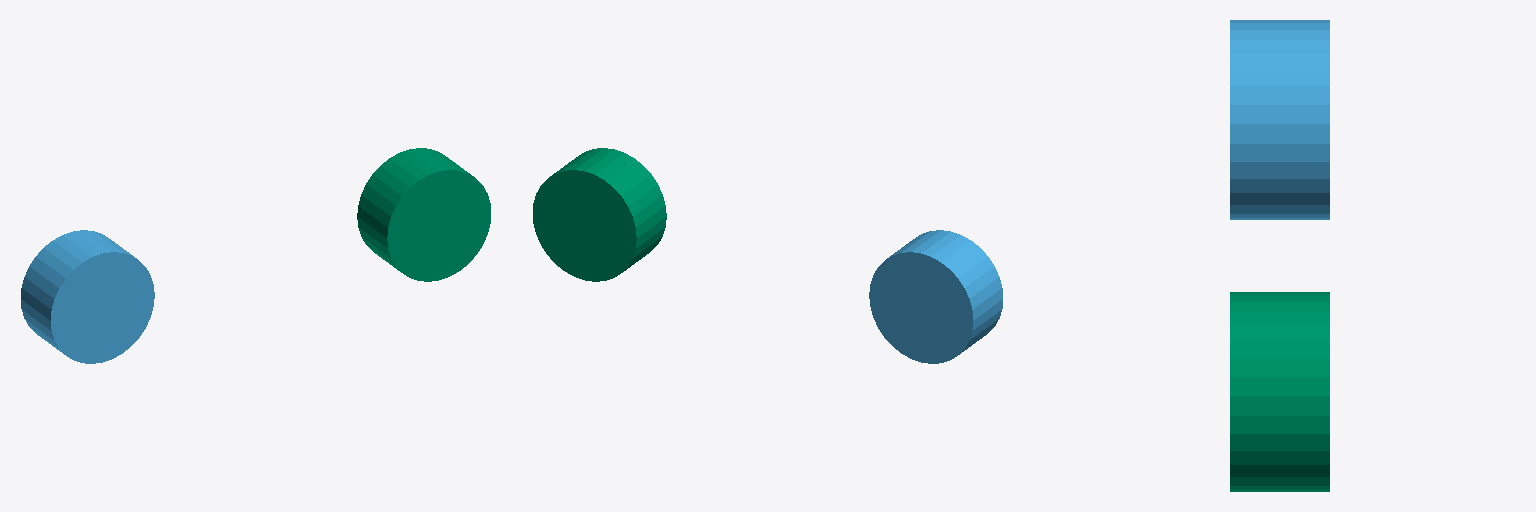
robot.urdf — ur:
<?xml version="1.0" ?>
<robot name="ur">
  <!-- Add URDF transmission elements (for ros_control) -->
  <!--<xacro:ur_arm_transmission prefix="${prefix}" hw_interface="${transmission_hw_interface}" />-->
  <!-- Placeholder for ros2_control transmission which don't yet exist -->
  <!-- links -  main serial chain -->
  <link name="base_link"/>
  <joint name="base_link-pod_base_link" type="fixed">
    <parent link="base_link"/>
    <child link="pod_base_link"/>
    <origin rpy="0 0 0" xyz="0.0 0 0"/>
  </joint>

  <link name="pod_base_link">
    <!-- <visual>
      <origin rpy="3.14 0 1.57" xyz="0.305 0.065 0.517"/>
      <geometry>
        <mesh filename="meshes/pod/untitled.dae"/>
      </geometry>
    </visual> -->
    <!-- <collision>
      <origin rpy="-1.57 0 1.57" xyz="0.305 0.065 0.517"/>
      <geometry>
        <mesh filename="meshes/pod/untitled.dae"/>
      </geometry>
    </collision> -->
  </link>
  
  <joint name="base_link-base_link_inertia" type="fixed">
    <parent link="base_link"/>
    <child link="base_link_inertia"/>
    <!-- 'base_link' is REP-103 aligned (so X+ forward), while the internal
           frames of the robot/controller have X+ pointing backwards.
           Use the joint between 'base_link' and 'base_link_inertia' (a dummy
           link/frame) to introduce the necessary rotation over Z (of pi rad).
      -->
    <origin rpy="0 0 3.141592653589793" xyz="-0.05 -0.05 0.05"/>
  </joint>
  <link name="base_link_inertia">
    <visual>
      <origin rpy="0 0 3.141592653589793" xyz="0 0 0"/>
      <geometry>
        <mesh filename="meshes/ur10e/visual/base.dae"/>
      </geometry>
    </visual>
    <collision>
      <origin rpy="0 0 3.141592653589793" xyz="0 0 0"/>
      <geometry>
        <mesh filename="meshes/ur10e/collision/base.stl"/>
      </geometry>
    </collision>
    <inertial>
      <mass value="4.0"/>
      <origin rpy="0 0 0" xyz="0 0 0"/>
      <inertia ixx="0.0061063308908" ixy="0.0" ixz="0.0" iyy="0.0061063308908" iyz="0.0" izz="0.01125"/>
    </inertial>
  </link>
  <joint name="shoulder_pan_joint" type="revolute">
    <parent link="base_link_inertia"/>
    <child link="shoulder_link"/>
    <origin rpy="0 0 0" xyz="0 0 0.1807"/>
    <axis xyz="0 0 1"/>
    <limit effort="330.0" lower="-6.283185307179586" upper="6.283185307179586" velocity="2.0943951023931953"/>
    <dynamics damping="0" friction="0"/>
  </joint>
  <link name="shoulder_link">
    <visual>
      <origin rpy="0 0 3.141592653589793" xyz="0 0 0"/>
      <geometry>
        <mesh filename="meshes/ur10e/visual/shoulder.dae"/>
      </geometry>
    </visual>
    <collision>
      <origin rpy="0 0 3.141592653589793" xyz="0 0 0"/>
      <geometry>
        <mesh filename="meshes/ur10e/collision/shoulder.stl"/>
      </geometry>
    </collision>
    <inertial>
      <mass value="7.369"/>
      <origin rpy="0 0 0" xyz="0 0 0"/>
      <inertia ixx="0.029819260655624295" ixy="0.0" ixz="0.0" iyy="0.029819260655624295" iyz="0.0" izz="0.020725312499999995"/>
    </inertial>
  </link>
  <joint name="shoulder_lift_joint" type="revolute">
    <parent link="shoulder_link"/>
    <child link="upper_arm_link"/>
    <origin rpy="1.570796327 0 0" xyz="0 0 0"/>
    <axis xyz="0 0 1"/>
    <limit effort="330.0" lower="-6.283185307179586" upper="6.283185307179586" velocity="2.0943951023931953"/>
    <dynamics damping="0" friction="0"/>
  </joint>
  <link name="upper_arm_link">
    <visual>
      <origin rpy="1.5707963267948966 0 -1.5707963267948966" xyz="0 0 0.176"/>
      <geometry>
        <mesh filename="meshes/ur16e/visual/upperarm.dae"/>
      </geometry>
    </visual>
    <collision>
      <origin rpy="1.5707963267948966 0 -1.5707963267948966" xyz="0 0 0.176"/>
      <geometry>
        <mesh filename="meshes/ur16e/collision/upperarm.stl"/>
      </geometry>
    </collision>
    <inertial>
      <mass value="10.45"/>
      <origin rpy="0 1.5707963267948966 0" xyz="-0.2392 0.0 0.175"/>
      <inertia ixx="0.21399985623335657" ixy="0.0" ixz="0.0" iyy="0.21399985623335657" iyz="0.0" izz="0.029390624999999997"/>
    </inertial>
  </link>
  <joint name="elbow_joint" type="revolute">
    <parent link="upper_arm_link"/>
    <child link="forearm_link"/>
    <origin rpy="0 0 0" xyz="-0.4784 0 0"/>
    <axis xyz="0 0 1"/>
    <limit effort="150.0" lower="-6.283185307179586" upper="6.283185307179586" velocity="3.141592653589793"/>
    <dynamics damping="0" friction="0"/>
  </joint>
  <link name="forearm_link">
    <visual>
      <origin rpy="1.5707963267948966 0 -1.5707963267948966" xyz="0 0 0.04"/>
      <geometry>
        <mesh filename="meshes/ur16e/visual/forearm.dae"/>
      </geometry>
    </visual>
    <collision>
      <origin rpy="1.5707963267948966 0 -1.5707963267948966" xyz="0 0 0.04"/>
      <geometry>
        <mesh filename="meshes/ur16e/collision/forearm.stl"/>
      </geometry>
    </collision>
    <inertial>
      <mass value="4.321"/>
      <origin rpy="0 1.5707963267948966 0" xyz="-0.18 0.0 0.04"/>
      <inertia ixx="0.052743185152717496" ixy="0.0" ixz="0.0" iyy="0.052743185152717496" iyz="0.0" izz="0.012152812499999997"/>
    </inertial>
  </link>
  <joint name="wrist_1_joint" type="revolute">
    <parent link="forearm_link"/>
    <child link="wrist_1_link"/>
    <origin rpy="0 0 0" xyz="-0.36 0 0.17415"/>
    <axis xyz="0 0 1"/>
    <limit effort="56.0" lower="-6.283185307179586" upper="6.283185307179586" velocity="3.141592653589793"/>
    <dynamics damping="0" friction="0"/>
  </joint>
  <link name="wrist_1_link">
    <visual>
      <origin rpy="1.5707963267948966 0 0" xyz="0 0 -0.135"/>
      <geometry>
        <mesh filename="meshes/ur10e/visual/wrist1.dae"/>
      </geometry>
    </visual>
    <collision>
      <origin rpy="1.5707963267948966 0 0" xyz="0 0 -0.135"/>
      <geometry>
        <mesh filename="meshes/ur10e/collision/wrist1.stl"/>
      </geometry>
    </collision>
    <inertial>
      <mass value="2.18"/>
      <origin rpy="0 0 0" xyz="0 0 0"/>
      <inertia ixx="0.0056816227273499996" ixy="0.0" ixz="0.0" iyy="0.0056816227273499996" iyz="0.0" izz="0.00613125"/>
    </inertial>
  </link>
  <joint name="wrist_2_joint" type="revolute">
    <parent link="wrist_1_link"/>
    <child link="wrist_2_link"/>
    <origin rpy="1.570796327 0 0" xyz="0 -0.11985 -2.458164590756244e-11"/>
    <axis xyz="0 0 1"/>
    <limit effort="56.0" lower="-6.283185307179586" upper="6.283185307179586" velocity="3.141592653589793"/>
    <dynamics damping="0" friction="0"/>
  </joint>
  <link name="wrist_2_link">
    <visual>
      <origin rpy="0 0 0" xyz="0 0 -0.12"/>
      <geometry>
        <mesh filename="meshes/ur10e/visual/wrist2.dae"/>
      </geometry>
    </visual>
    <collision>
      <origin rpy="0 0 0" xyz="0 0 -0.12"/>
      <geometry>
        <mesh filename="meshes/ur10e/collision/wrist2.stl"/>
      </geometry>
    </collision>
    <inertial>
      <mass value="2.033"/>
      <origin rpy="0 0 0" xyz="0 0 0"/>
      <inertia ixx="0.0052985041305975" ixy="0.0" ixz="0.0" iyy="0.0052985041305975" iyz="0.0" izz="0.0057178125"/>
    </inertial>
  </link>
  <joint name="wrist_3_joint" type="revolute">
    <parent link="wrist_2_link"/>
    <child link="wrist_3_link"/>
    <origin rpy="1.570796326589793 3.141592653589793 3.141592653589793" xyz="0 0.11655 -2.390480459346185e-11"/>
    <axis xyz="0 0 1"/>
    <limit effort="56.0" lower="-6.283185307179586" upper="6.283185307179586" velocity="3.141592653589793"/>
    <dynamics damping="0" friction="0"/>
  </joint>
  <link name="wrist_3_link">
    <visual>
      <origin rpy="1.5707963267948966 0 0" xyz="0 0 -0.1168"/>
      <geometry>
        <mesh filename="meshes/ur10e/visual/wrist3.dae"/>
      </geometry>
    </visual>
    <collision>
      <origin rpy="1.5707963267948966 0 0" xyz="0 0 -0.1168"/>
      <geometry>
        <mesh filename="meshes/ur10e/collision/wrist3.stl"/>
      </geometry>
    </collision>
    <inertial>
      <mass value="0.907"/>
      <origin rpy="0 0 0" xyz="0.0 0.0 -0.025"/>
      <inertia ixx="0.0006481268240825001" ixy="0.0" ixz="0.0" iyy="0.0006481268240825001" iyz="0.0" izz="0.0009183374999999999"/>
    </inertial>
  </link>

  <joint name="sensor_1_joint" type="fixed">
    <parent link="wrist_3_link"/>
    <child link="sensor_1_link"/>
    <origin rpy="0 0 0" xyz="0.0323088 0 0.0768096"/>
  </joint>

  <joint name="sensor_2_joint" type="fixed">
    <parent link="wrist_3_link"/>
    <child link="sensor_2_link"/>
    <origin rpy="0 0 0" xyz="-0.0323088 0 0.0768096"/>
  </joint>
  
  <link name="sensor_1_link">
    <visual>
      <geometry>
        <cylinder length="0.01" radius="0.01"/>
      </geometry>
      <color rgba="1 1 1 1"/>
    </visual>
  </link>
  <link name="sensor_2_link">
    <visual>
      <geometry>
        <cylinder length="0.01" radius="0.01"/>
      </geometry>
      <color rgba="1 1 1 1"/>
    </visual>
  </link>
  
  <joint name="rod_joint" type="fixed">
    <parent link="wrist_3_link"/>
    <child link="ee_link"/>
    <origin rpy="0 -1.57 0" xyz="0 0 0.0"/>
  </joint>
  
  <link name="ee_link"/>
  
</robot>

--- Render facts (derived) ---
The picture shows the robot from 3 angles, left to right: view 1: azimuth 30°, elevation 25°; view 2: azimuth 150°, elevation 25°; view 3: azimuth 270°, elevation 25°; orthographic projection.
Model ur with 12 links and 11 joints (6 revolute, 5 fixed), rooted at base_link, posed all joints at 0.
Links seen in each view (by area): view 1: sensor_1_link, sensor_2_link; view 2: sensor_1_link, sensor_2_link; view 3: sensor_1_link, sensor_2_link.
Boxes of the visible links, x1,y1,x2,y2 form: sensor_1_link: (21,230,154,363); sensor_2_link: (357,148,490,281); sensor_1_link: (869,230,1002,363); sensor_2_link: (533,148,666,281); sensor_1_link: (1230,20,1329,219); sensor_2_link: (1230,292,1329,491).
Size in the robot's own frame: 0.0846 by 0.01 by 0.02 metres.
Meshes: 7 distinct files referenced, 0 mesh visuals loaded (none loaded); not drawn: 7 (reference not matched to a file when rendering).